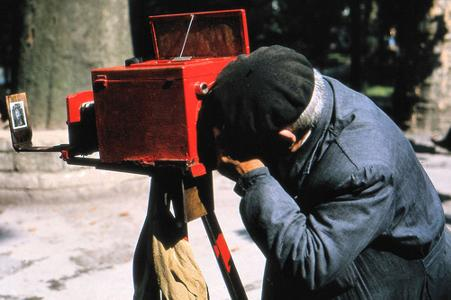person: (197, 48, 451, 300)
